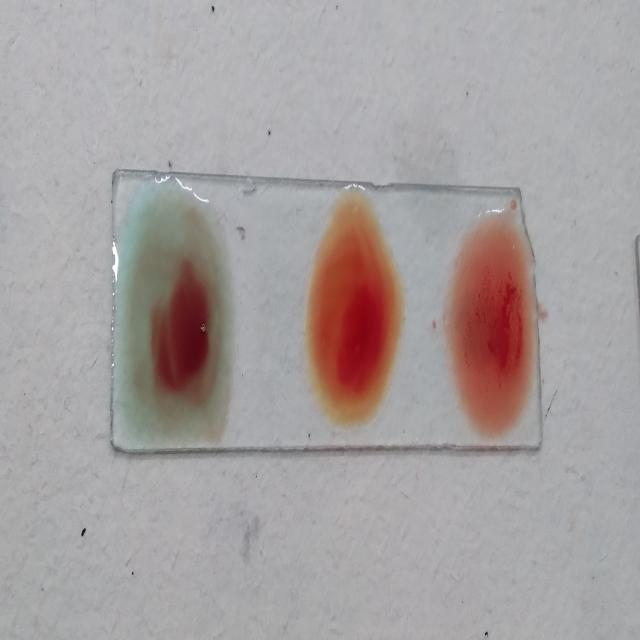D: (455, 233, 536, 438)
